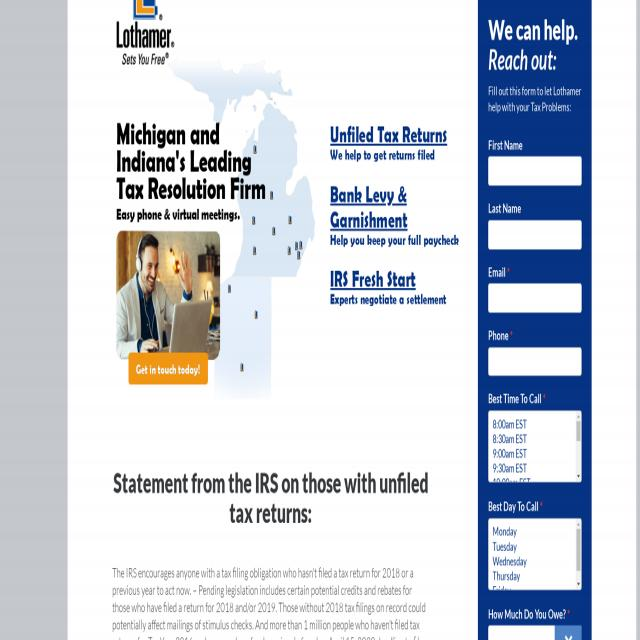button: (116, 231, 220, 359), (116, 0, 174, 65), (128, 352, 208, 385), (555, 625, 581, 640), (577, 528, 581, 570), (577, 421, 581, 441), (576, 412, 581, 421), (577, 471, 581, 482), (577, 519, 581, 529), (577, 578, 581, 588)
field: (488, 410, 582, 482), (488, 518, 582, 590), (488, 156, 582, 186), (488, 283, 582, 313), (488, 347, 582, 377), (488, 220, 582, 249), (488, 625, 554, 640)
